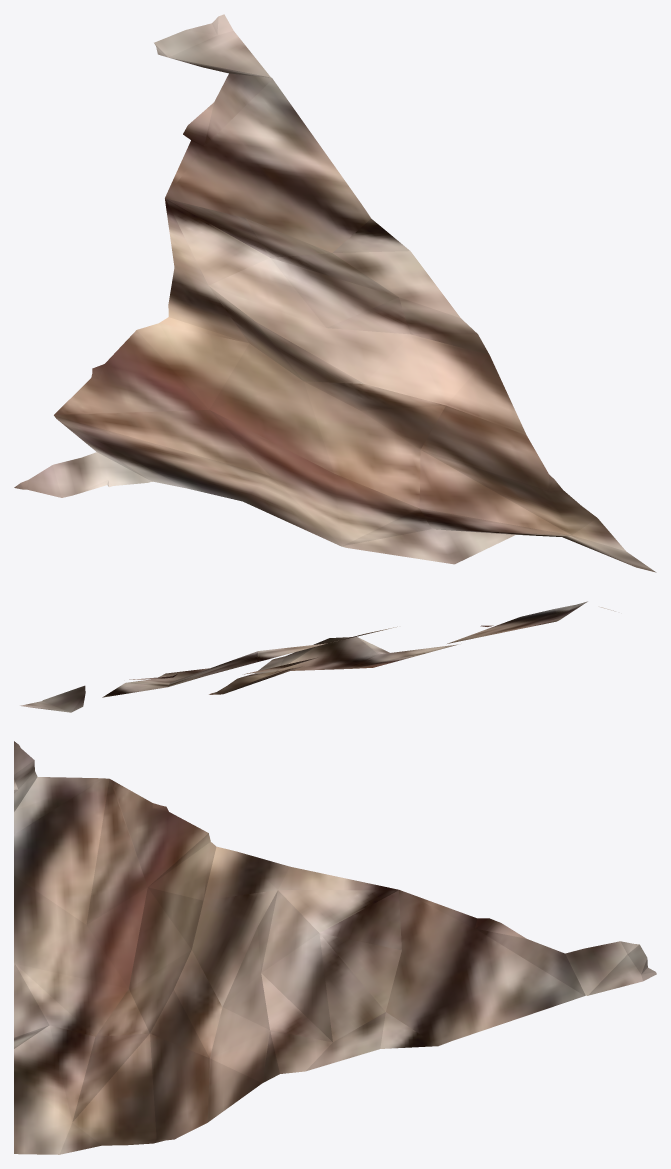
3 renders of one model, top to bottom at view 1: azimuth 30°, elevation 25°; view 2: azimuth 150°, elevation 25°; view 3: azimuth 270°, elevation 25°, orthographic. The views are drawn at different scales.
Bounding box in the file's own units: 0.8482 × 0.3063 × 0.9885.
1 material, 1 textured.
